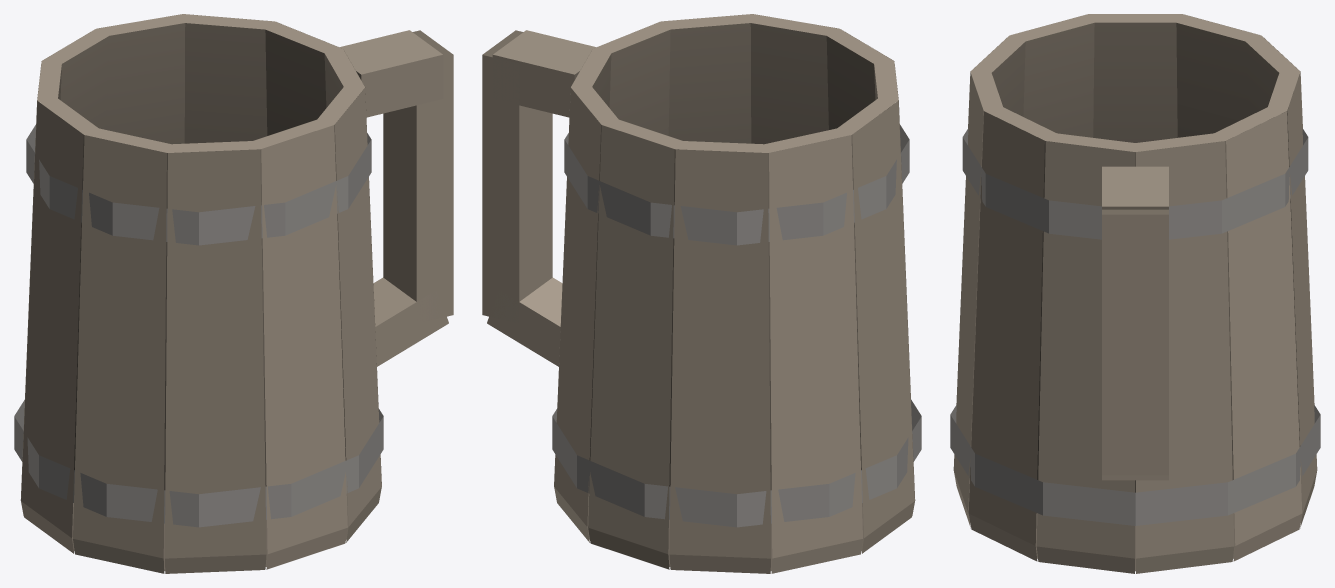
File: prop_inn_tankard.glb
3 renders of one model, left to right at view 1: azimuth 30°, elevation 25°; view 2: azimuth 150°, elevation 25°; view 3: azimuth 270°, elevation 25°, orthographic.
Parts seen in each view (by area): view 1: InnTankard; view 2: InnTankard; view 3: InnTankard.
Part boxes in pixels (x1,y1,x2,y2): InnTankard: (14,14,453,573); InnTankard: (482,14,921,573); InnTankard: (950,14,1320,573).
Size of the model in its own units: 0.1505 by 0.15 by 0.121.
